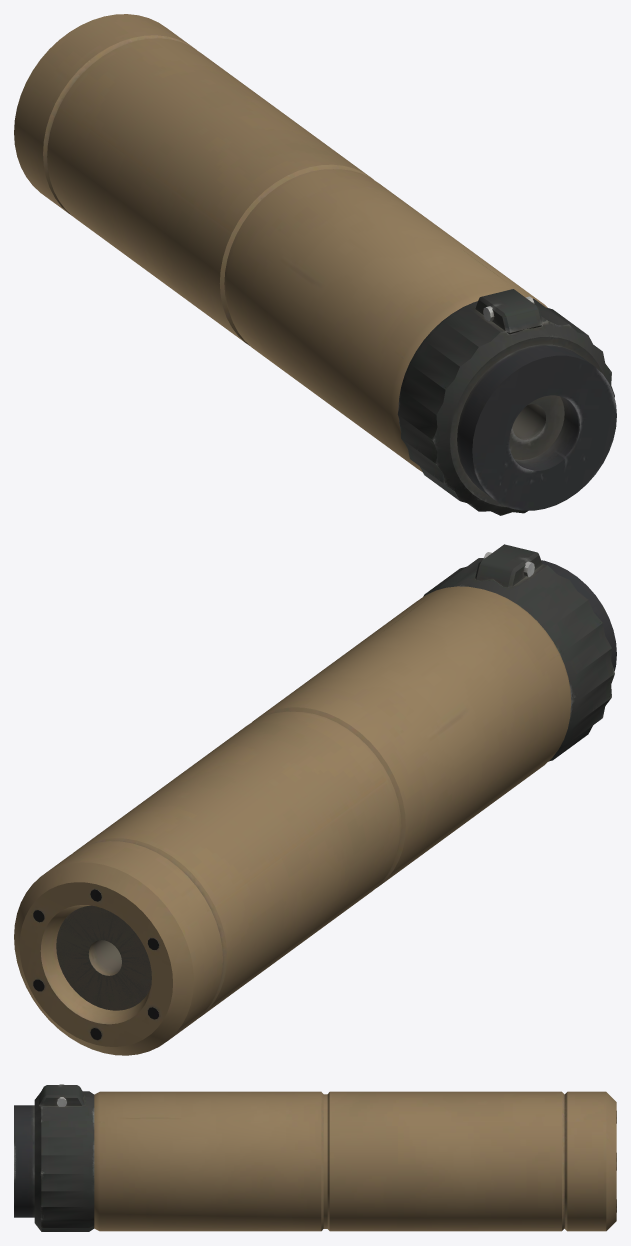
Rendered from supressor_556_tan.glb.
3 renders of one model, top to bottom at view 1: azimuth 30°, elevation 25°; view 2: azimuth 150°, elevation 25°; view 3: azimuth 270°, elevation 25°, orthographic. The views are drawn at different scales.
Visible parts, largest first — view 1: supressor_556_tan_boca; view 2: supressor_556_tan_boca; view 3: supressor_556_tan_boca.
Boxes of the visible parts, x1,y1,x2,y2 form: supressor_556_tan_boca: [14, 14, 616, 515]; supressor_556_tan_boca: [14, 544, 616, 1055]; supressor_556_tan_boca: [14, 1084, 616, 1231].
Size of the model in its own units: 0.0412 by 0.0436 by 0.1761.
Materials: 1 (1 with a texture image).
